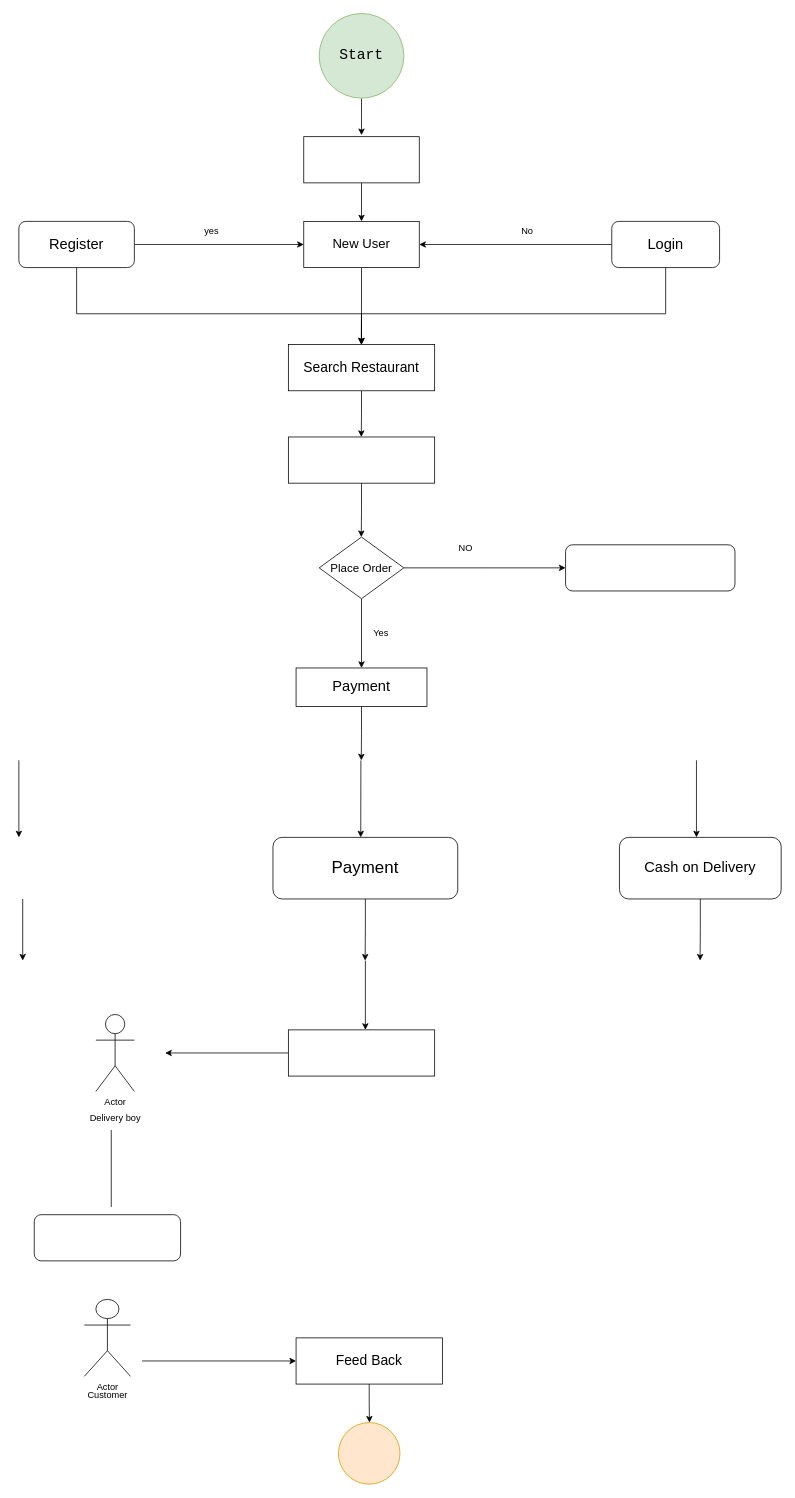
Image size: 795x1498. Some labels were removed from this diagram. Each missing label, with the box of its shape:
Display "Not Available": (565, 544, 735, 591)
End: (338, 1422, 400, 1484)
Open App/Website: (303, 136, 419, 183)
Order Placed: (288, 1029, 435, 1076)
Received Order: (33, 1214, 181, 1261)
Search Food: (288, 436, 435, 483)
